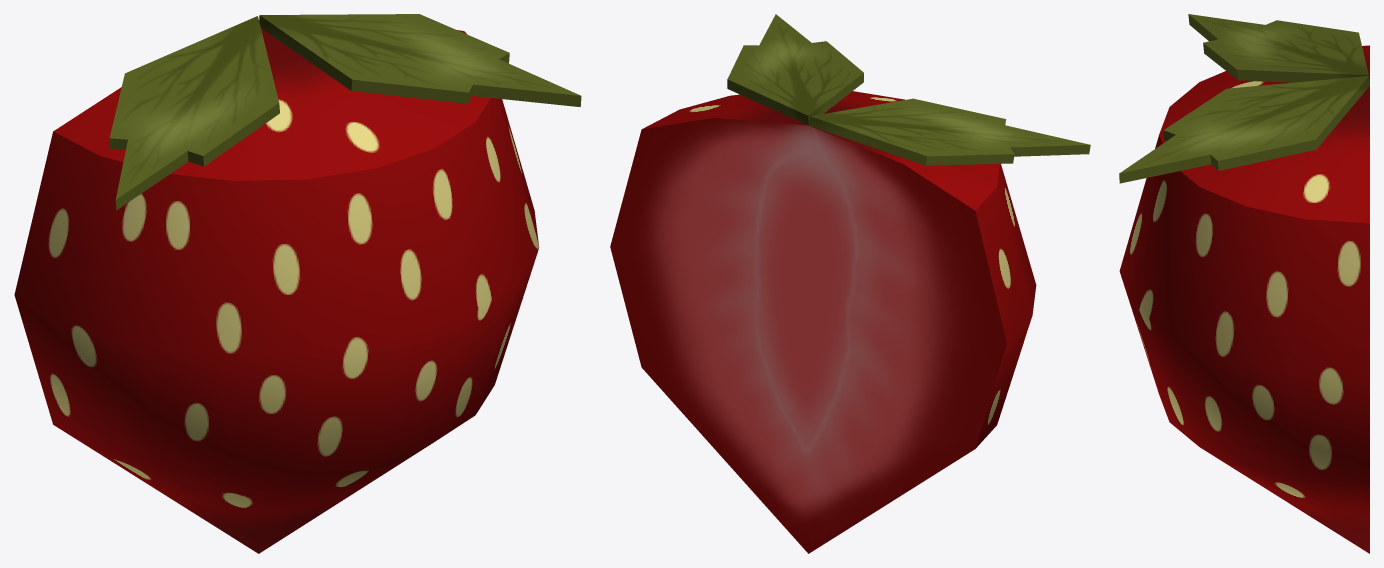
Rendered from Strawberry.fbx.
The picture shows the model from 3 angles, left to right: view 1: azimuth 30°, elevation 25°; view 2: azimuth 150°, elevation 25°; view 3: azimuth 270°, elevation 25°; orthographic projection. The views are drawn at different scales.
Parts seen in each view (by area): view 1: Strawberry; view 2: Strawberry; view 3: Strawberry.
Part boxes in pixels (left/top/right/bottom): Strawberry: left=14, top=14, right=581, bottom=553; Strawberry: left=610, top=14, right=1090, bottom=553; Strawberry: left=1119, top=14, right=1369, bottom=553.
Bounding box in the file's own units: 0.9152 × 0.9629 × 0.4574.
